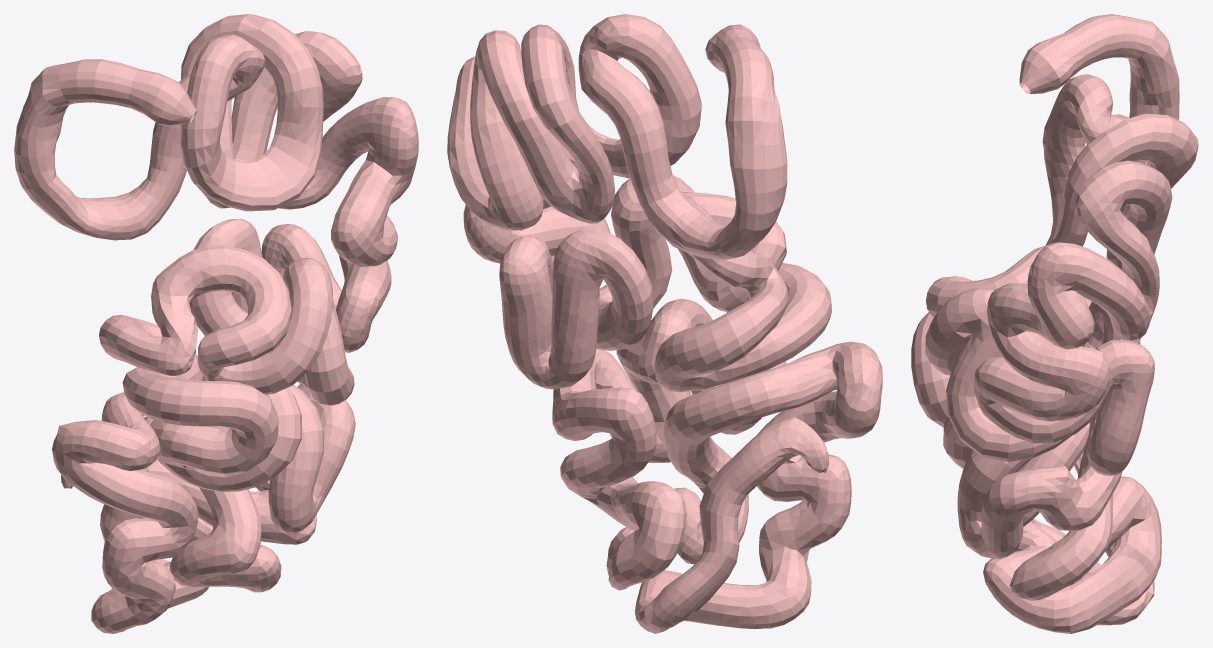
Rendered from VH_M_Small_Intestine_0.8.glb.
3 renders of one model, left to right at view 1: azimuth 30°, elevation 25°; view 2: azimuth 150°, elevation 25°; view 3: azimuth 270°, elevation 25°, orthographic. The views are drawn at different scales.
Visible parts, largest first — view 1: VH_M_jejunum, VH_M_ileum, VH_M_duodenum_horizonal, VH_M_duodenum_superior, VH_M_duodenum_descending, VH_M_duodenum_ascending, VH_M_duodenal_ampulla, VH_M_ileum_terminal; view 2: VH_M_jejunum, VH_M_ileum, VH_M_ileum_terminal, VH_M_duodenum_descending, VH_M_duodenum_ascending, VH_M_duodenum_horizonal, VH_M_duodenum_superior; view 3: VH_M_jejunum, VH_M_ileum, VH_M_duodenum_superior, VH_M_duodenum_descending, VH_M_duodenal_ampulla.
Boxes of the visible parts, bbox=[...] form: VH_M_jejunum: bbox=[99, 14, 418, 405]; VH_M_ileum: bbox=[52, 367, 355, 633]; VH_M_duodenum_horizonal: bbox=[33, 178, 178, 240]; VH_M_duodenum_superior: bbox=[42, 59, 157, 113]; VH_M_duodenum_descending: bbox=[14, 69, 70, 202]; VH_M_duodenum_ascending: bbox=[147, 73, 246, 191]; VH_M_duodenal_ampulla: bbox=[143, 73, 196, 125]; VH_M_ileum_terminal: bbox=[61, 469, 157, 561]; VH_M_jejunum: bbox=[447, 14, 788, 392]; VH_M_ileum: bbox=[552, 263, 882, 633]; VH_M_ileum_terminal: bbox=[644, 417, 828, 627]; VH_M_duodenum_descending: bbox=[725, 96, 787, 249]; VH_M_duodenum_ascending: bbox=[578, 49, 678, 205]; VH_M_duodenum_horizonal: bbox=[641, 187, 762, 259]; VH_M_duodenum_superior: bbox=[713, 29, 779, 105]; VH_M_jejunum: bbox=[925, 74, 1198, 475]; VH_M_ileum: bbox=[911, 312, 1161, 633]; VH_M_duodenum_superior: bbox=[1052, 14, 1155, 77]; VH_M_duodenum_descending: bbox=[1128, 23, 1179, 119]; VH_M_duodenal_ampulla: bbox=[1019, 38, 1074, 93].
Bounding box in the file's own units: 0.1879 × 0.2654 × 0.1222.
